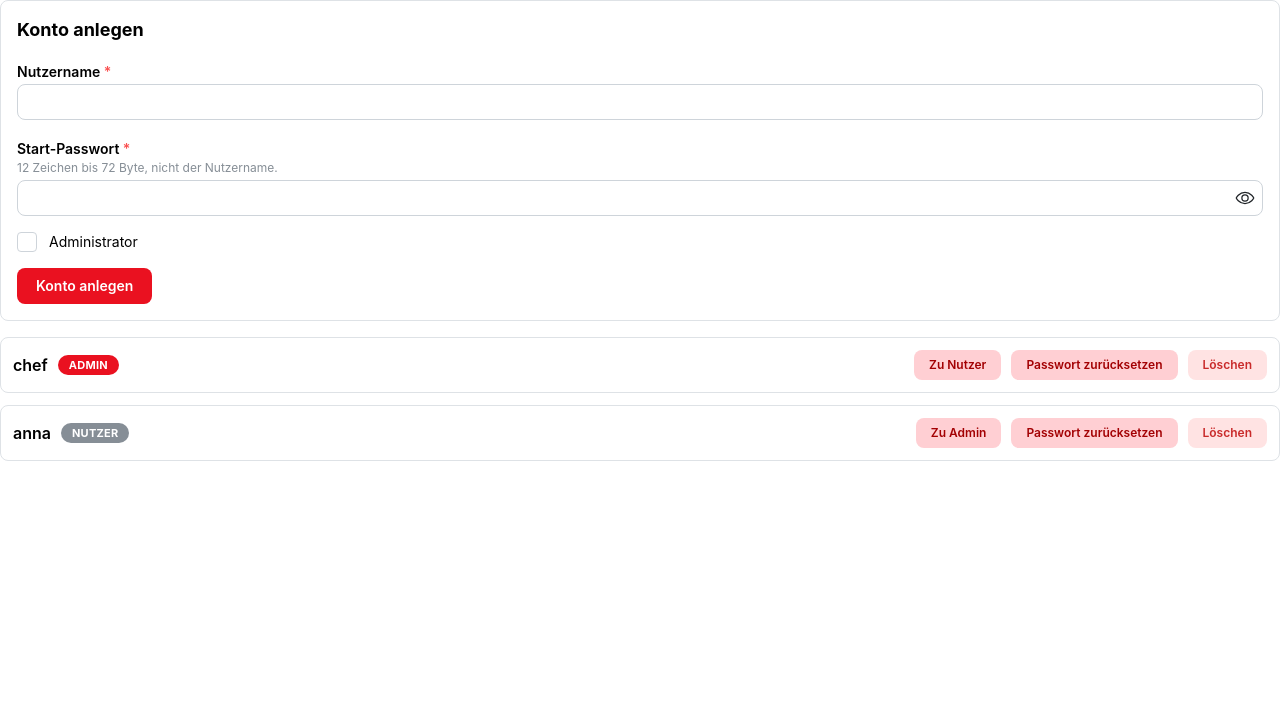
Test case: UserAdminPanel › shows the error an action returns (e.g. last-admin protection) in itself
Click the button "Zu Nutzer" at [958, 365], box x1=914 y1=350 x2=1001 y2=380
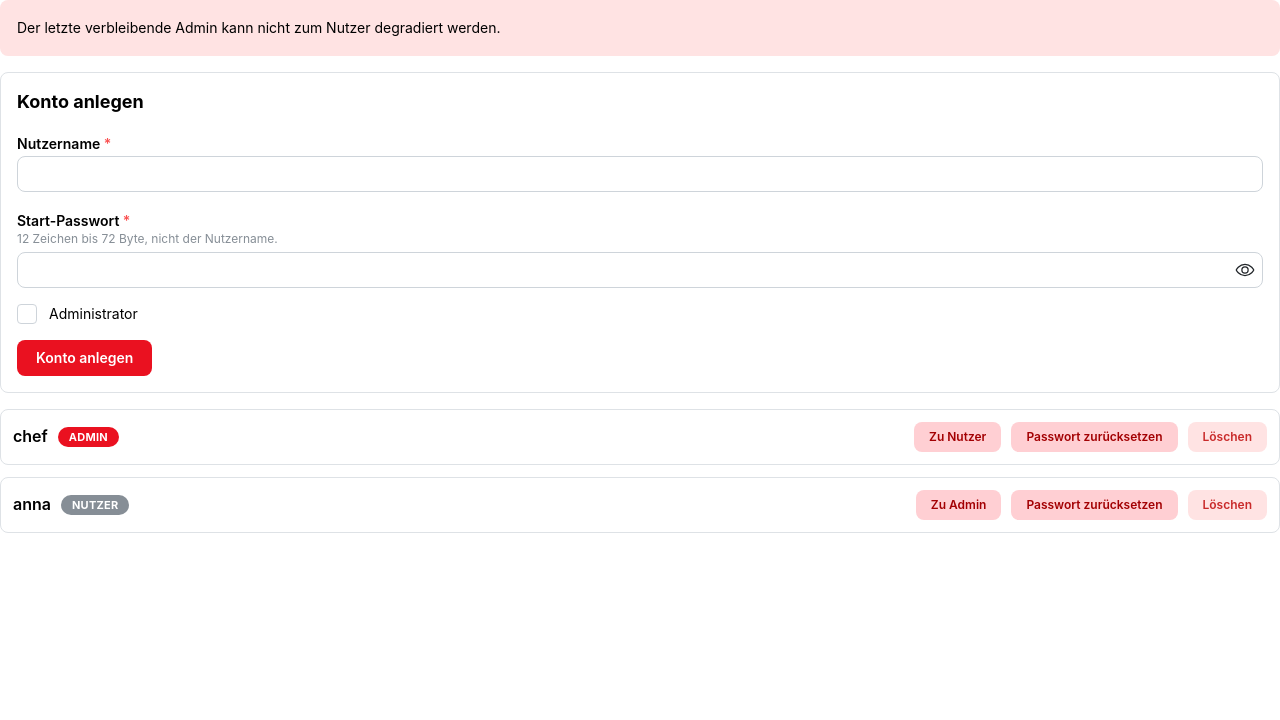
Check: the message shows "letzte verbleibende Admin", box x1=17 y1=19 x2=500 y2=36
